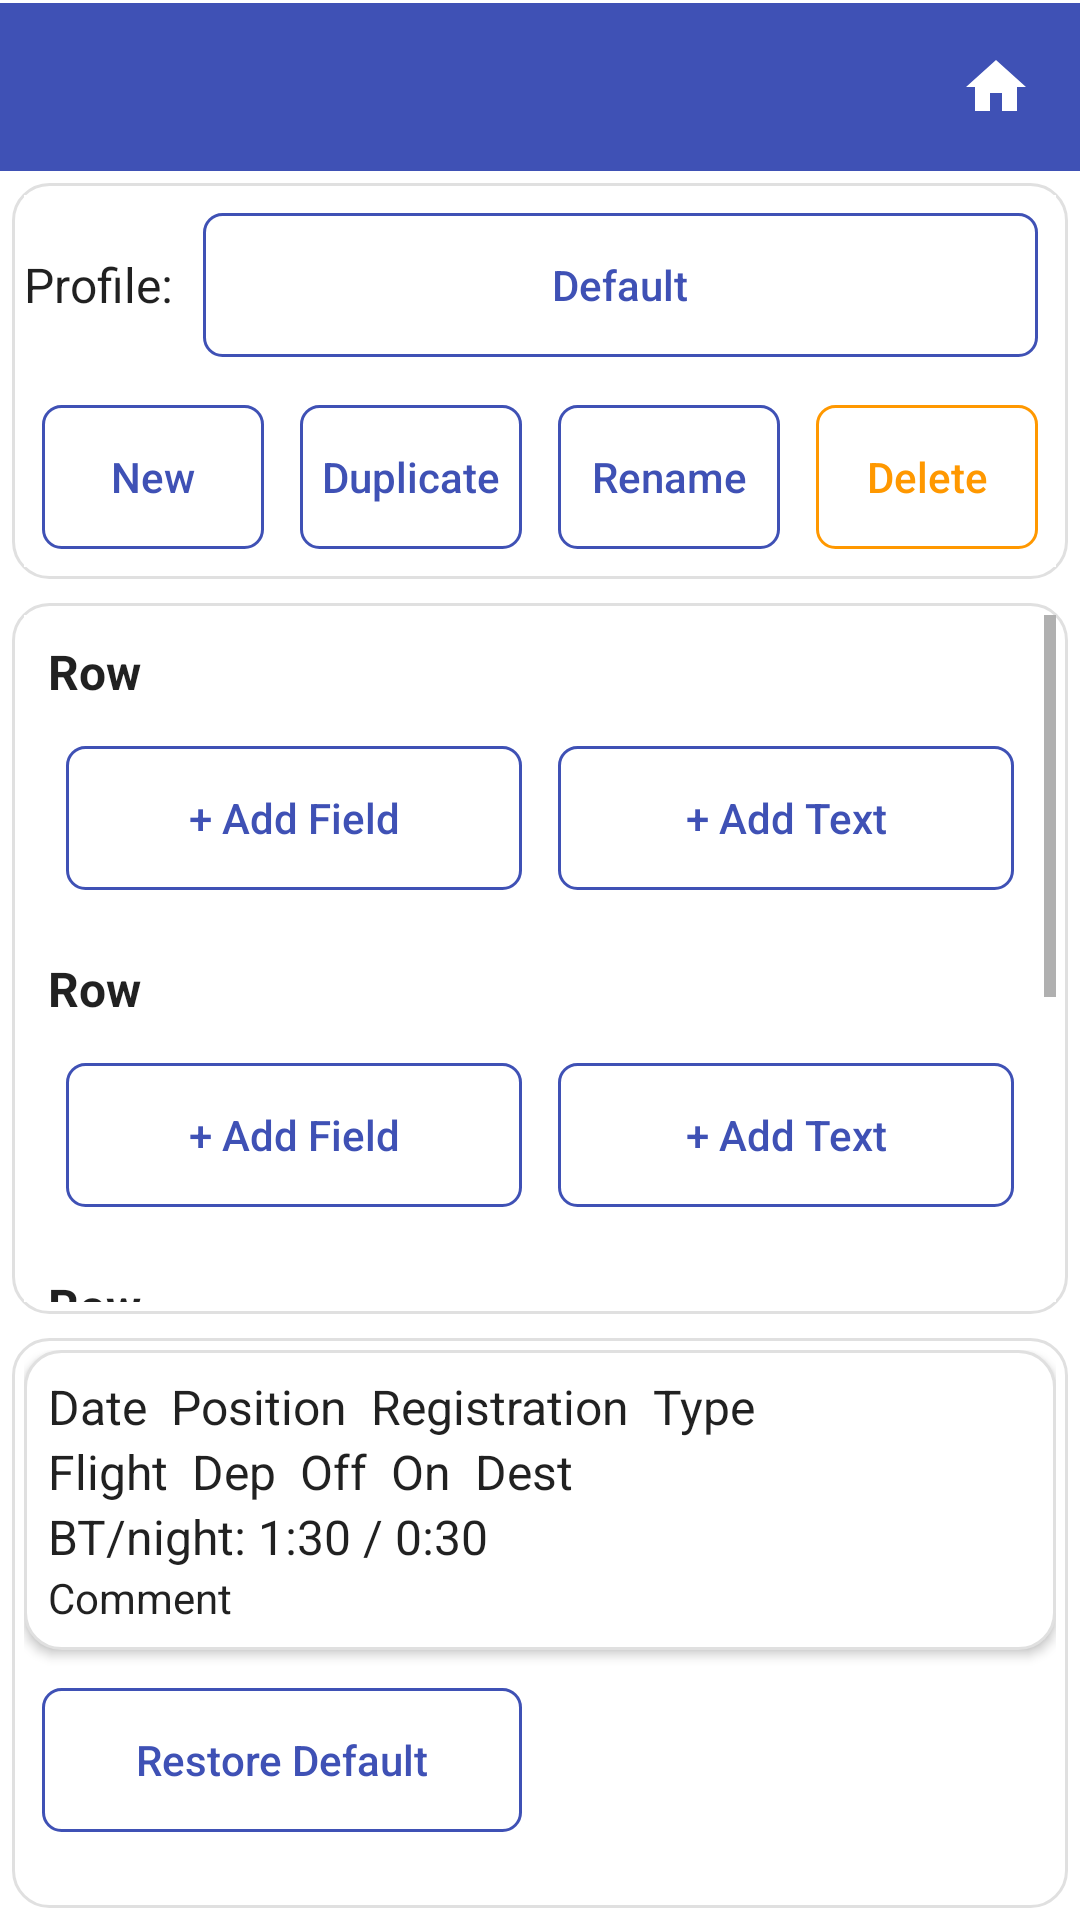

Icons on this 1080×1920 Android screen, each with its box as (x1, y1, x2, y2):
Home: (966, 60, 1026, 111)
